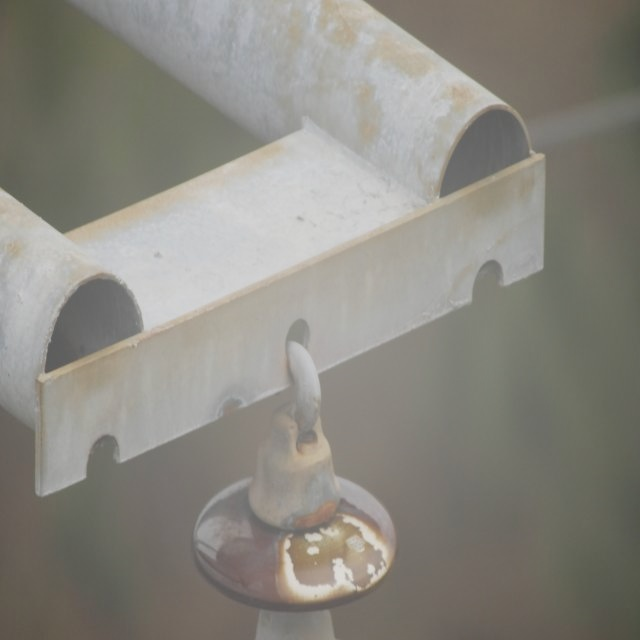insulator: (192, 476, 399, 610)
